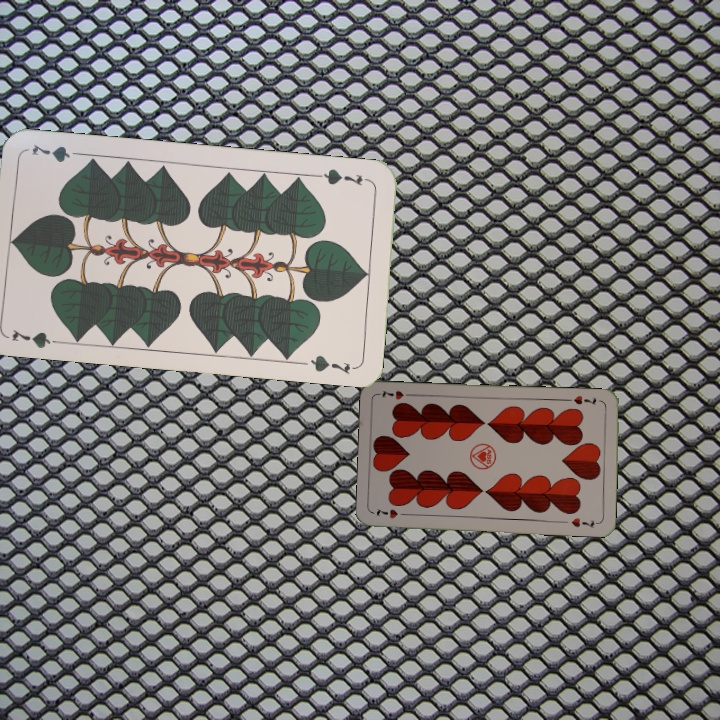G7: (8, 325, 68, 351), (314, 164, 373, 188)
H7: (370, 505, 411, 521), (570, 392, 598, 407)
